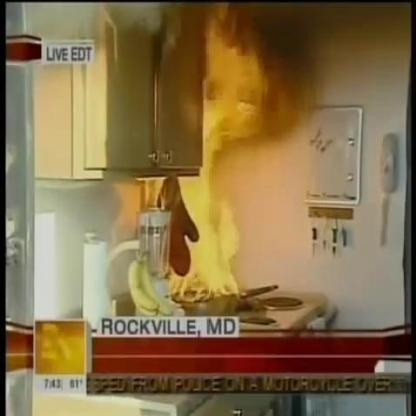fire: (161, 112, 260, 298)
